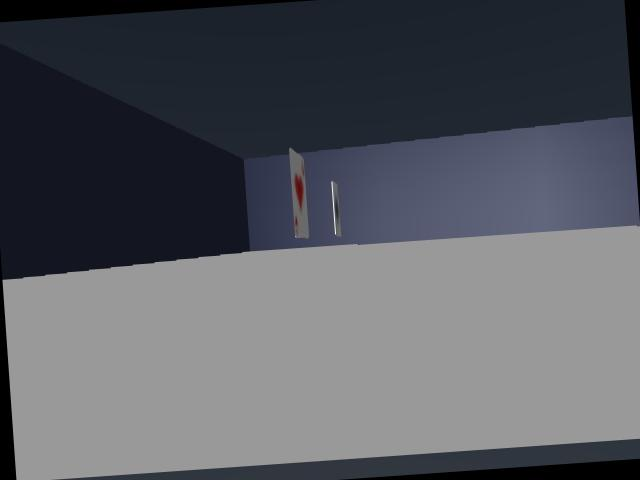heart: (289, 148, 308, 238)
